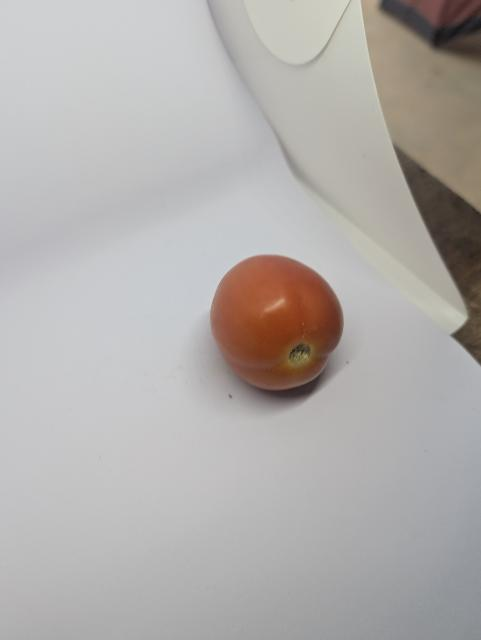red: (201, 237, 356, 404)
